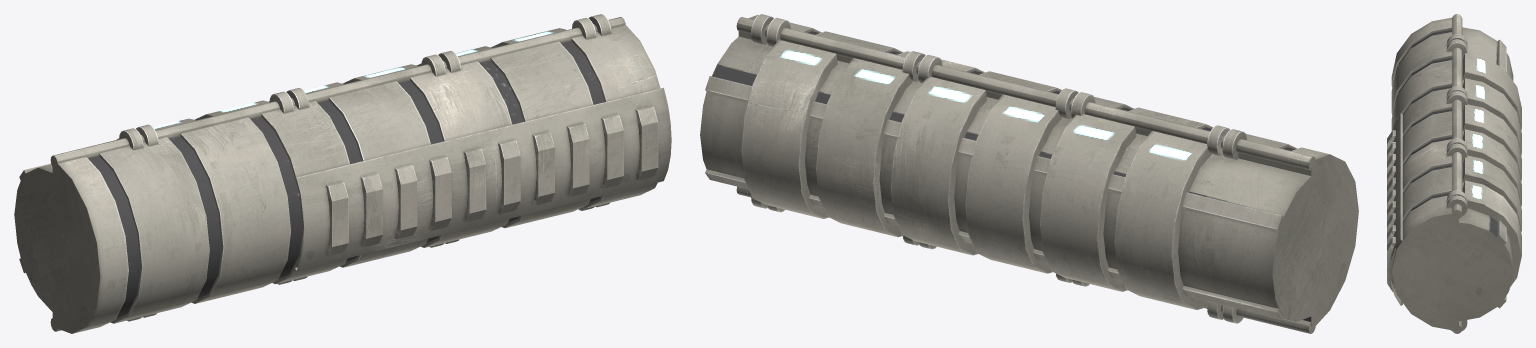
File: grip_18_r_d.glb
3 renders of one model, left to right at view 1: azimuth 30°, elevation 25°; view 2: azimuth 150°, elevation 25°; view 3: azimuth 270°, elevation 25°, orthographic. The views are drawn at different scales.
Visible parts, largest first — view 1: grip_18_r_d_lod0; view 2: grip_18_r_d_lod0; view 3: grip_18_r_d_lod0.
Boxes of the visible parts, x1,y1,x2,y2 form: grip_18_r_d_lod0: [14, 14, 671, 333]; grip_18_r_d_lod0: [700, 14, 1358, 333]; grip_18_r_d_lod0: [1387, 14, 1521, 333].
Size of what is drawn, in the model's own units: 0.1042 by 0.033 by 0.0302.
1 material, 1 textured.
